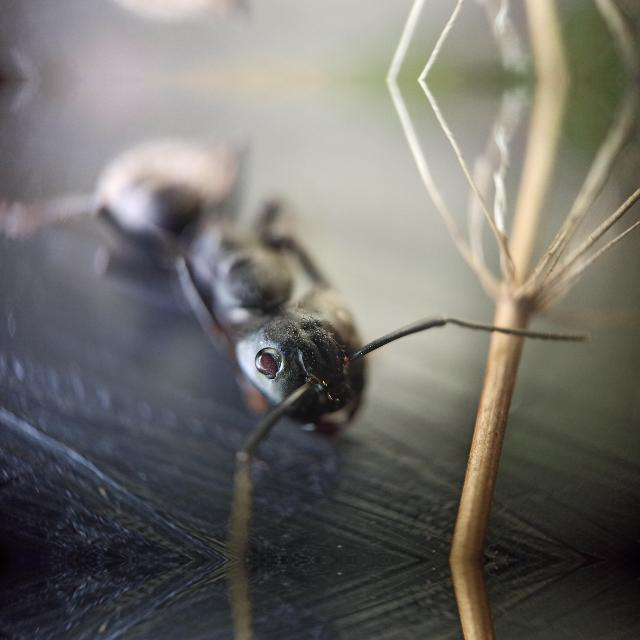Camponotus: (19, 79, 494, 505)
